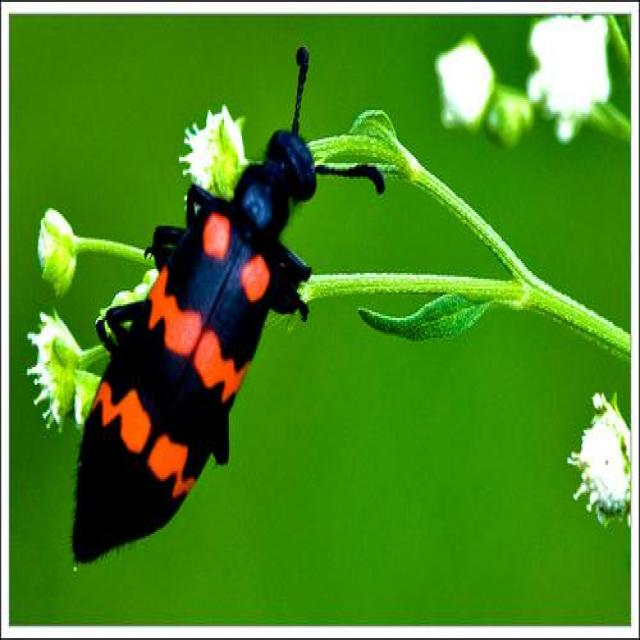BlisterBeetle-Adult-: (59, 38, 393, 586)
